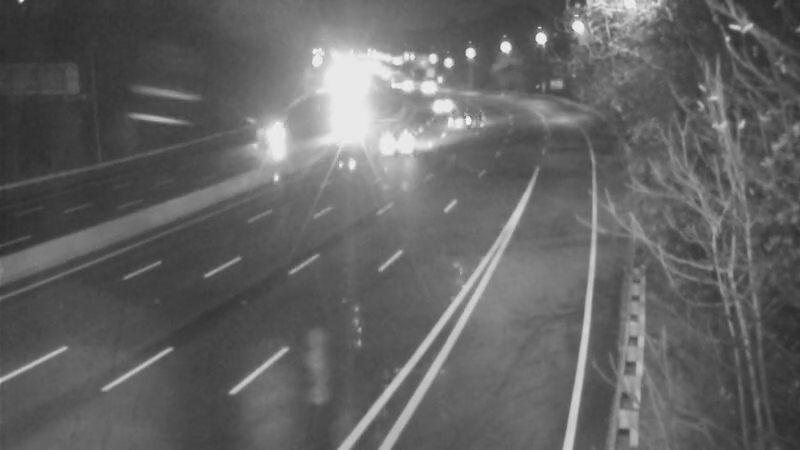vehicle: (417, 78, 467, 128), (419, 103, 469, 153), (389, 112, 439, 162), (248, 109, 298, 159), (309, 106, 359, 156)
